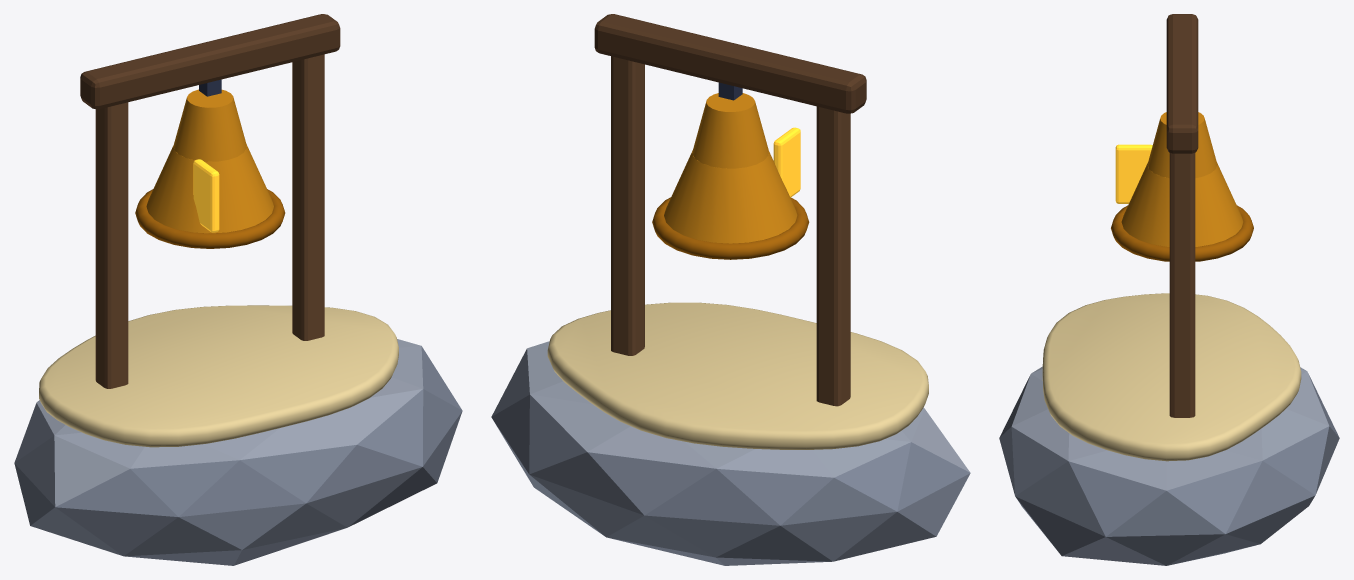
The model's file is pedra-do-sino.glb.
The picture shows the model from 3 angles, left to right: view 1: azimuth 30°, elevation 25°; view 2: azimuth 150°, elevation 25°; view 3: azimuth 270°, elevation 25°; orthographic projection. The views are drawn at different scales.
Visible parts, largest first — view 1: pedra, cyl; view 2: pedra, cyl; view 3: pedra, cyl.
Part boxes in pixels (bbox=[...]): pedra: bbox=[14, 14, 462, 565]; cyl: bbox=[135, 89, 285, 248]; pedra: bbox=[491, 14, 970, 565]; cyl: bbox=[652, 93, 809, 259]; pedra: bbox=[999, 14, 1339, 565]; cyl: bbox=[1111, 112, 1253, 261].
Size of the model in its own units: 1.4 by 1.59 by 1.07.
